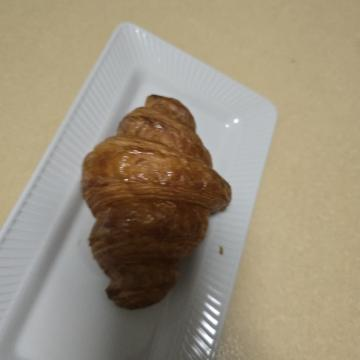croissant: (81, 117, 316, 290)
